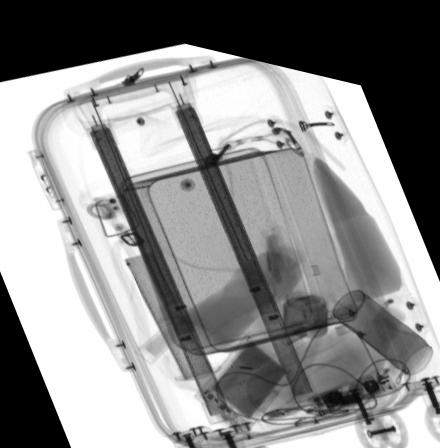Powerbank: (193, 318, 298, 422)
